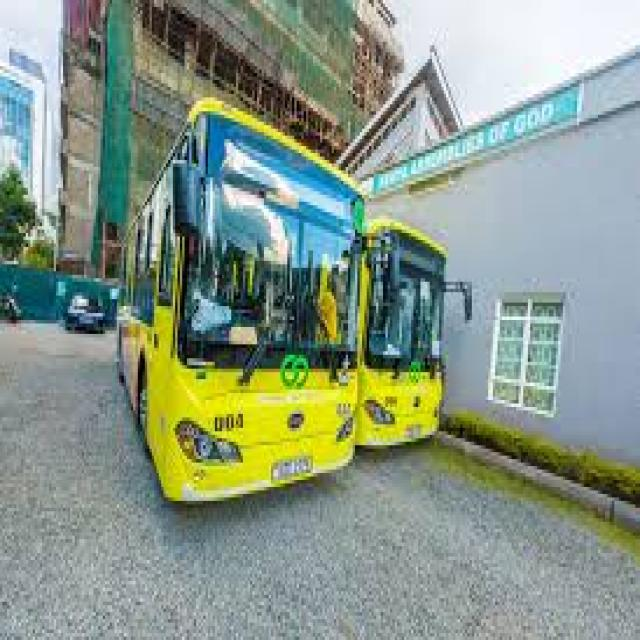bus: (80, 70, 367, 568)
